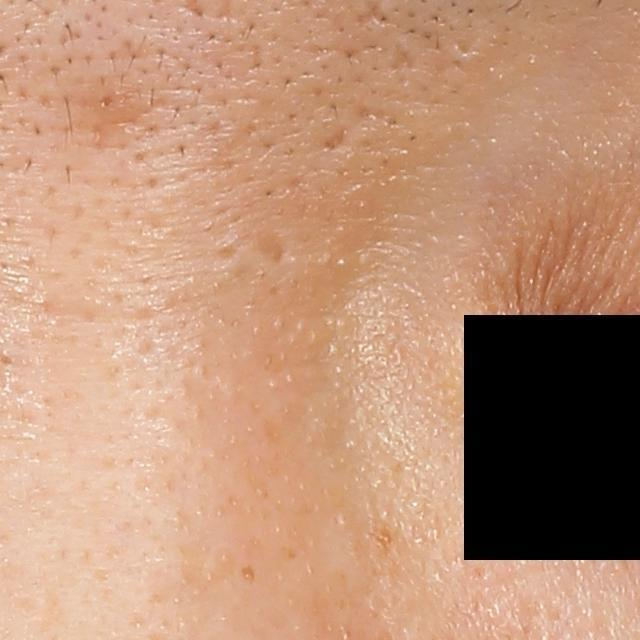atrophic_scar: (74, 84, 149, 156), (256, 236, 286, 268), (322, 126, 354, 154)
melasma: (370, 526, 393, 554)
